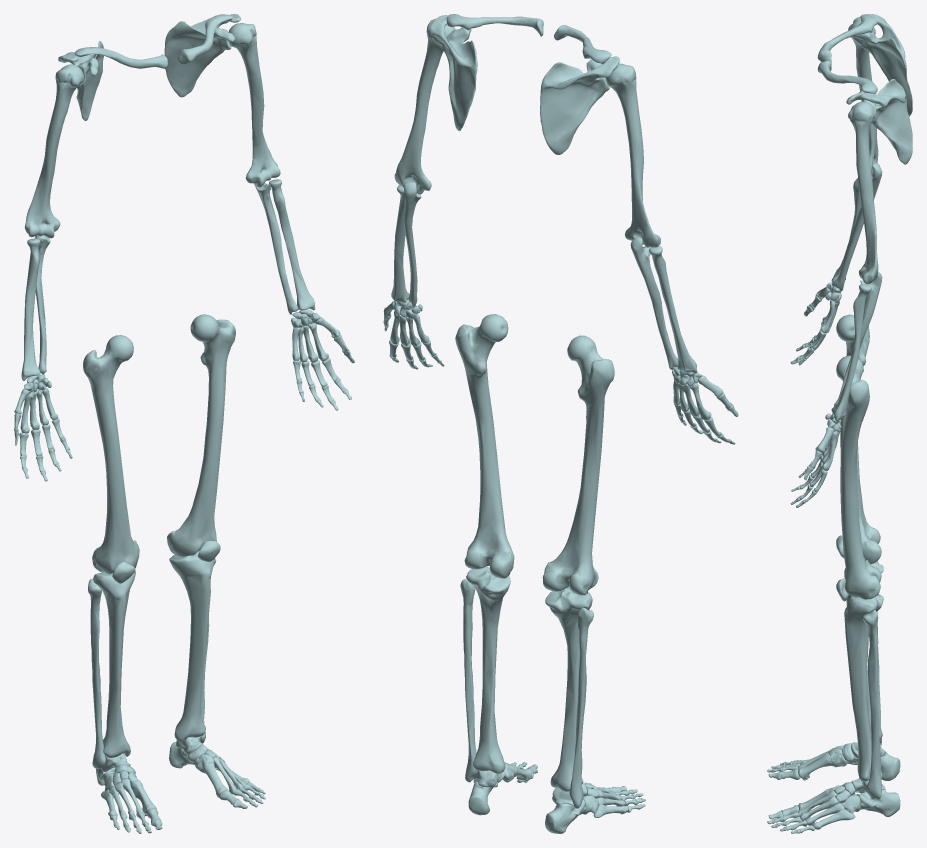
The model's file is z-anatomy-appendicular-skeleton.glb.
3 renders of one model, left to right at view 1: azimuth 30°, elevation 25°; view 2: azimuth 150°, elevation 25°; view 3: azimuth 270°, elevation 25°, orthographic. The views are drawn at different scales.
Visible parts, largest first — view 1: appendicular-skeleton-femur-left__Femur.l, appendicular-skeleton-femur-right__Femur.r, appendicular-skeleton-tibia-left__Tibia.l, appendicular-skeleton-tibia-right__Tibia.r, appendicular-skeleton-humerus-right__Humerus.r, appendicular-skeleton-humerus-left__Humerus.l, appendicular-skeleton-scapula-left__Scapula.l, appendicular-skeleton-fibula-right__Fibula.r, appendicular-skeleton-radius-right__Radius.r, appendicular-skeleton-radius-left__Radius.l, appendicular-skeleton-scapula-right__Scapula.r, appendicular-skeleton-ulna-left__Ulna.l (+3 smaller); view 2: appendicular-skeleton-femur-left__Femur.l, appendicular-skeleton-femur-right__Femur.r, appendicular-skeleton-scapula-right__Scapula.r, appendicular-skeleton-tibia-left__Tibia.l, appendicular-skeleton-tibia-right__Tibia.r, appendicular-skeleton-humerus-right__Humerus.r, appendicular-skeleton-humerus-left__Humerus.l, appendicular-skeleton-scapula-left__Scapula.l, appendicular-skeleton-fibula-left__Fibula.l, appendicular-skeleton-fibula-right__Fibula.r, appendicular-skeleton-ulna-right__Ulna.r, appendicular-skeleton-radius-right__Radius.r (+5 smaller); view 3: appendicular-skeleton-femur-left__Femur.l, appendicular-skeleton-tibia-left__Tibia.l, appendicular-skeleton-humerus-left__Humerus.l, appendicular-skeleton-scapula-left__Scapula.l, appendicular-skeleton-scapula-right__Scapula.r, appendicular-skeleton-fibula-left__Fibula.l, appendicular-skeleton-femur-right__Femur.r, appendicular-skeleton-radius-left__Radius.l, appendicular-skeleton-humerus-right__Humerus.r, appendicular-skeleton-ulna-right__Ulna.r, appendicular-skeleton-calcaneus-left__Calcaneus.l, appendicular-skeleton-ulna-left__Ulna.l (+7 smaller).
Boxes of the visible parts, x1,y1,x2,y2 form: appendicular-skeleton-femur-left__Femur.l: (167,314,235,556); appendicular-skeleton-femur-right__Femur.r: (83,335,139,574); appendicular-skeleton-tibia-left__Tibia.l: (169,550,214,743); appendicular-skeleton-tibia-right__Tibia.r: (93,571,135,757); appendicular-skeleton-humerus-right__Humerus.r: (24,64,83,238); appendicular-skeleton-humerus-left__Humerus.l: (228,23,280,187); appendicular-skeleton-scapula-left__Scapula.l: (164,14,240,97); appendicular-skeleton-fibula-right__Fibula.r: (88,578,105,768); appendicular-skeleton-radius-right__Radius.r: (21,238,40,380); appendicular-skeleton-radius-left__Radius.l: (269,179,315,310); appendicular-skeleton-scapula-right__Scapula.r: (58,41,103,120); appendicular-skeleton-ulna-left__Ulna.l: (254,183,297,314); appendicular-skeleton-femur-left__Femur.l: (455,314,514,578); appendicular-skeleton-femur-right__Femur.r: (542,335,614,595); appendicular-skeleton-scapula-right__Scapula.r: (540,56,619,154); appendicular-skeleton-tibia-left__Tibia.l: (466,566,510,773); appendicular-skeleton-tibia-right__Tibia.r: (545,587,592,791); appendicular-skeleton-humerus-right__Humerus.r: (606,63,660,247); appendicular-skeleton-humerus-left__Humerus.l: (394,19,455,194); appendicular-skeleton-scapula-left__Scapula.l: (429,15,477,130); appendicular-skeleton-fibula-left__Fibula.l: (460,579,477,782); appendicular-skeleton-fibula-right__Fibula.r: (569,607,593,808); appendicular-skeleton-ulna-right__Ulna.r: (630,236,678,369); appendicular-skeleton-radius-right__Radius.r: (649,246,697,373); appendicular-skeleton-femur-left__Femur.l: (836,355,881,599); appendicular-skeleton-tibia-left__Tibia.l: (844,594,883,781); appendicular-skeleton-humerus-left__Humerus.l: (848,101,878,284); appendicular-skeleton-scapula-left__Scapula.l: (846,79,912,164); appendicular-skeleton-scapula-right__Scapula.r: (850,14,912,116); appendicular-skeleton-fibula-left__Fibula.l: (862,609,881,799); appendicular-skeleton-femur-right__Femur.r: (836,314,881,564); appendicular-skeleton-radius-left__Radius.l: (831,283,871,421); appendicular-skeleton-humerus-right__Humerus.r: (848,17,878,175); appendicular-skeleton-ulna-right__Ulna.r: (834,162,882,291); appendicular-skeleton-calcaneus-left__Calcaneus.l: (856,789,900,816); appendicular-skeleton-ulna-left__Ulna.l: (834,271,882,406).
Size of the model in its own units: 0.6692 by 1.42 by 0.2501.
